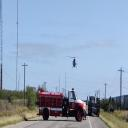helicopter: (65, 54, 84, 73)
